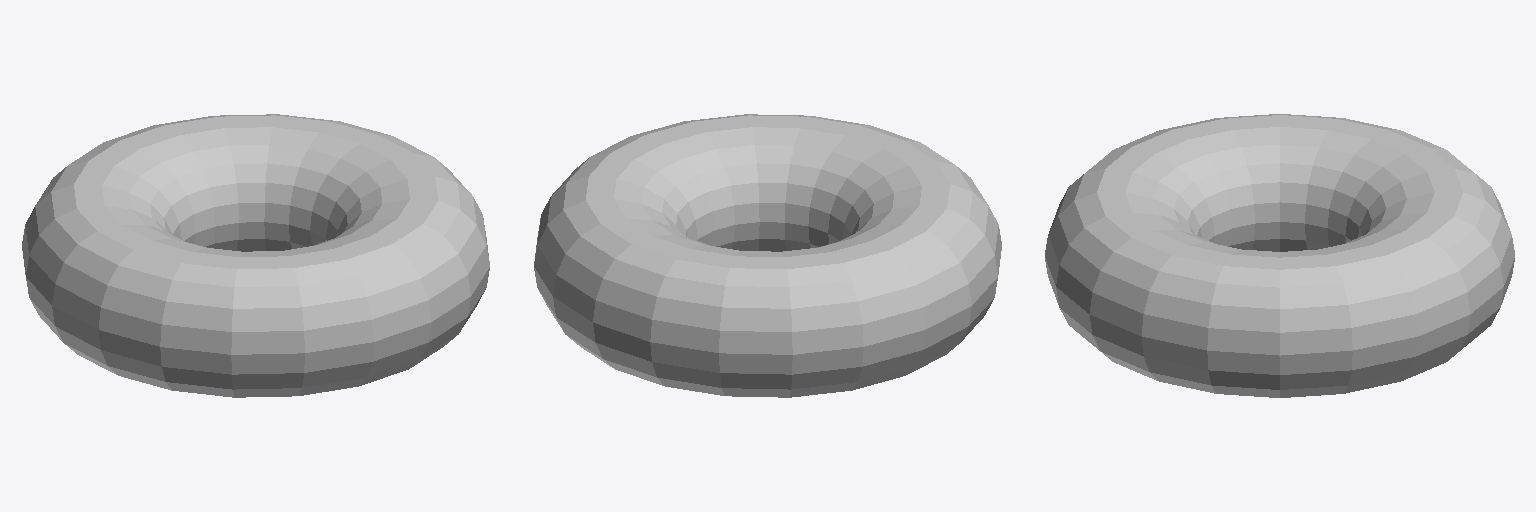
Rendered from Its a flooter.obj.
3 views of the same model, side by side, from view 1: azimuth 30°, elevation 25°; view 2: azimuth 150°, elevation 25°; view 3: azimuth 270°, elevation 25° (orthographic).
Parts seen in each view (by area): view 1: Torus.002; view 2: Torus.002; view 3: Torus.002.
Part boxes in pixels (x1,y1,x2,y2): Torus.002: (22, 114, 489, 397); Torus.002: (534, 114, 1001, 397); Torus.002: (1045, 114, 1514, 397).
Size of the model in its own units: 1.98 by 0.5919 by 1.98.